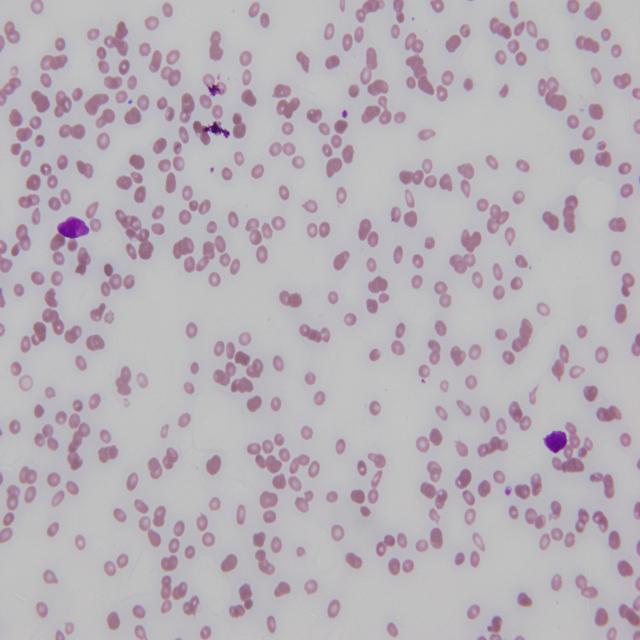cell: (58, 217, 89, 239), (544, 430, 568, 453)
